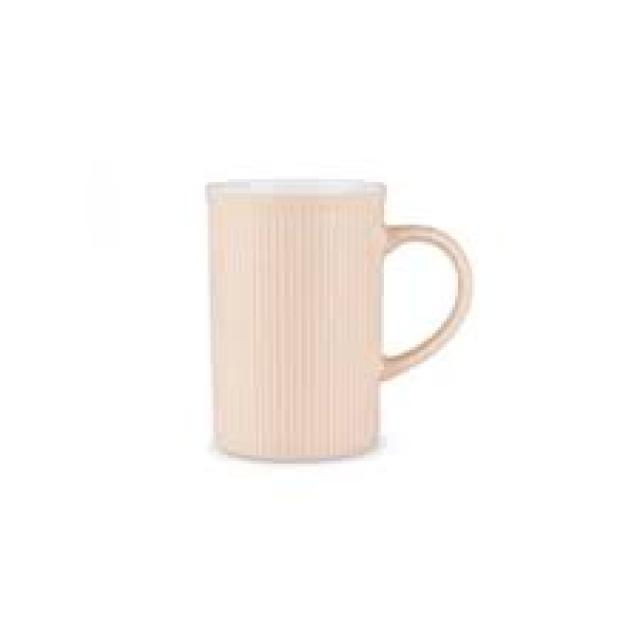taza: (205, 178, 474, 465)
